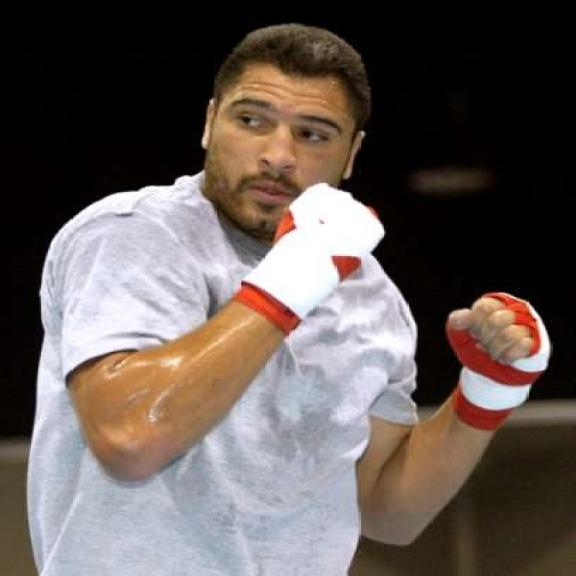face: (200, 56, 364, 238)
